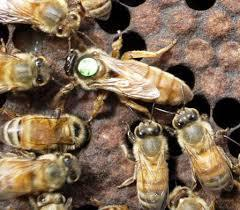Queen-Bee: (58, 40, 196, 110)
worker-bee: (174, 107, 240, 196), (127, 116, 174, 210), (0, 113, 100, 146), (0, 45, 53, 92)
